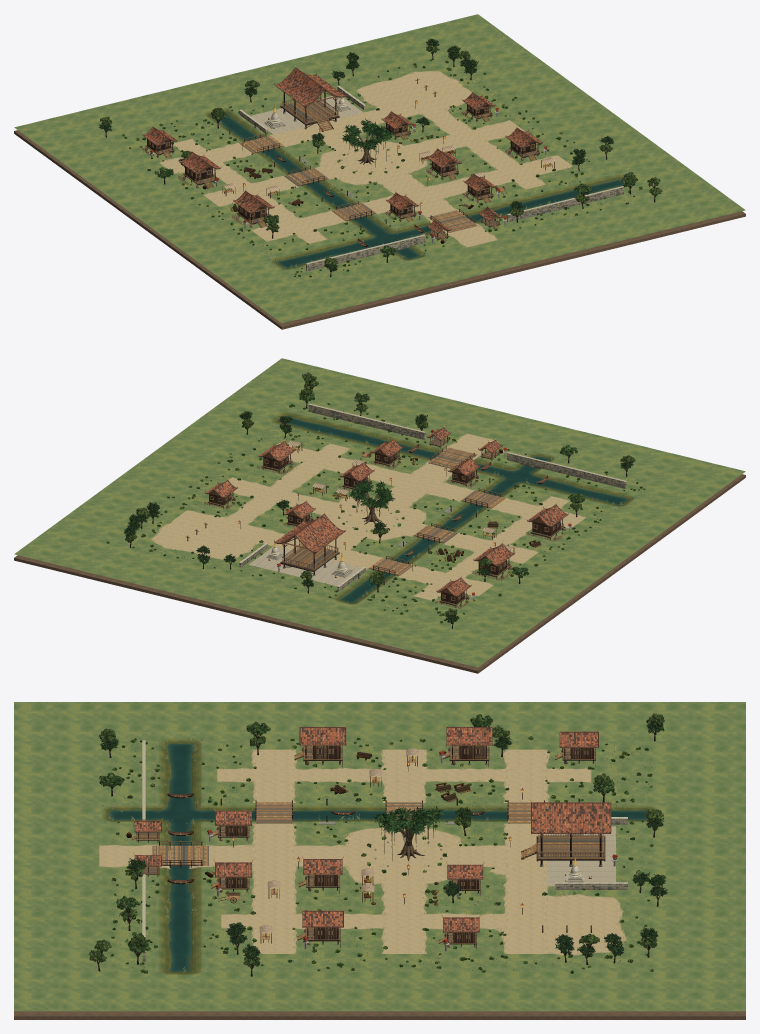
The model's file is ayutthaya.glb.
3 renders of one model, top to bottom at view 1: azimuth 30°, elevation 25°; view 2: azimuth 150°, elevation 25°; view 3: azimuth 270°, elevation 25°, orthographic. The views are drawn at different scales.
Parts seen in each view (by area): view 1: Ground - varied meadow | grass, Tracks - worn earth | path, Soil foundation | earth, Feathered road shoulders | path_edge, Water surface | water, Roof / overlapping clay tiles | roof, Organic tree foliage | real bushes, Roof / closed timber underlay | roof_under, Courtyard earth | path.001, Roof / overlapping clay tiles | roof2, Bridge / separate deck boards | plank, Courtyard paving | paving (+15 smaller); view 2: Ground - varied meadow | grass, Tracks - worn earth | path, Soil foundation | earth, Water surface | water, Feathered road shoulders | path_edge, Roof / overlapping clay tiles | roof, Organic tree foliage | real bushes, Roof / closed timber underlay | roof_under, Courtyard earth | path.001, Courtyard paving | paving, Roof / overlapping clay tiles | roof2, Bridge / separate deck boards | plank (+13 smaller); view 3: Ground - varied meadow | grass, Tracks - worn earth | path, Feathered road shoulders | path_edge, Water surface | water, Soil foundation | earth, Roof / overlapping clay tiles | roof, Organic tree foliage | real bushes, Roof / closed timber underlay | roof_under, Courtyard earth | path.001, Roof / overlapping clay tiles | roof2, Building / floorboards | plank, Courtyard paving | paving (+21 smaller).
Boxes of the visible parts, x1,y1,x2,y2 form: Ground - varied meadow | grass: (14, 14, 745, 323); Tracks - worn earth | path: (161, 84, 571, 246); Soil foundation | earth: (14, 130, 745, 329); Feathered road shoulders | path_edge: (159, 84, 572, 247); Water surface | water: (211, 114, 623, 268); Roof / overlapping clay tiles | roof: (144, 68, 540, 232); Organic tree foliage | real bushes: (121, 59, 642, 277); Roof / closed timber underlay | roof_under: (144, 69, 541, 232); Courtyard earth | path.001: (361, 72, 461, 109); Roof / overlapping clay tiles | roof2: (143, 68, 537, 229); Bridge / separate deck boards | plank: (241, 136, 476, 231); Courtyard paving | paving: (250, 96, 362, 134); Ground - varied meadow | grass: (14, 358, 745, 667); Tracks - worn earth | path: (173, 434, 584, 600); Soil foundation | earth: (14, 474, 745, 673); Water surface | water: (280, 416, 628, 602); Feathered road shoulders | path_edge: (172, 433, 585, 601); Roof / overlapping clay tiles | roof: (206, 428, 567, 595); Organic tree foliage | real bushes: (106, 403, 645, 623); Roof / closed timber underlay | roof_under: (207, 428, 566, 596); Courtyard earth | path.001: (155, 517, 255, 558); Courtyard paving | paving: (248, 546, 361, 586); Roof / overlapping clay tiles | roof2: (208, 430, 566, 595); Bridge / separate deck boards | plank: (368, 448, 504, 575); Ground - varied meadow | grass: (14, 702, 745, 1011); Tracks - worn earth | path: (99, 749, 595, 953); Feathered road shoulders | path_edge: (99, 749, 595, 953); Water surface | water: (109, 743, 647, 971); Soil foundation | earth: (14, 1011, 745, 1019); Roof / overlapping clay tiles | roof: (135, 728, 610, 931); Organic tree foliage | real bushes: (110, 736, 653, 973); Roof / closed timber underlay | roof_under: (135, 728, 610, 931); Courtyard earth | path.001: (501, 896, 621, 952); Roof / overlapping clay tiles | roof2: (135, 728, 610, 931); Building / floorboards | plank: (137, 746, 604, 943); Courtyard paving | paving: (546, 826, 615, 886).
Size of the model in its own units: 180 by 18.12 by 180.
42 materials, 42 textured.
